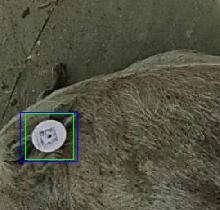text: (25, 113, 73, 159)
